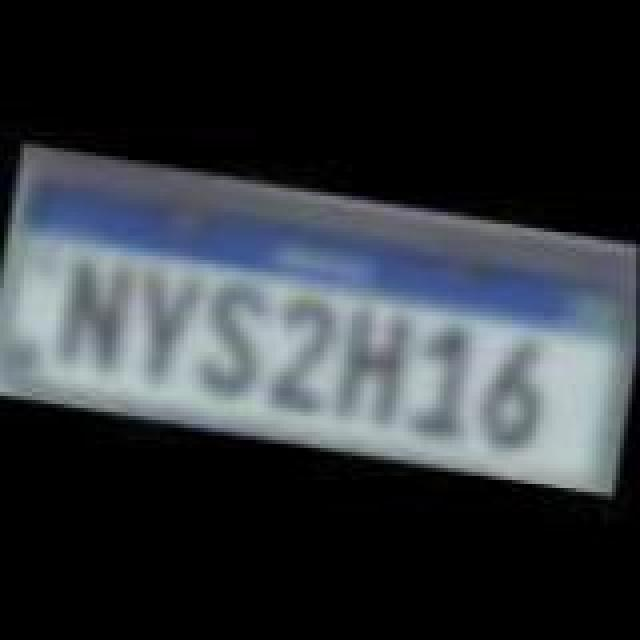1: (406, 316, 486, 444)
2: (264, 292, 348, 416)
6: (472, 332, 560, 452)
H: (332, 294, 416, 430)
N: (54, 254, 142, 378)
S: (194, 282, 282, 406)
Y: (126, 264, 206, 388)
